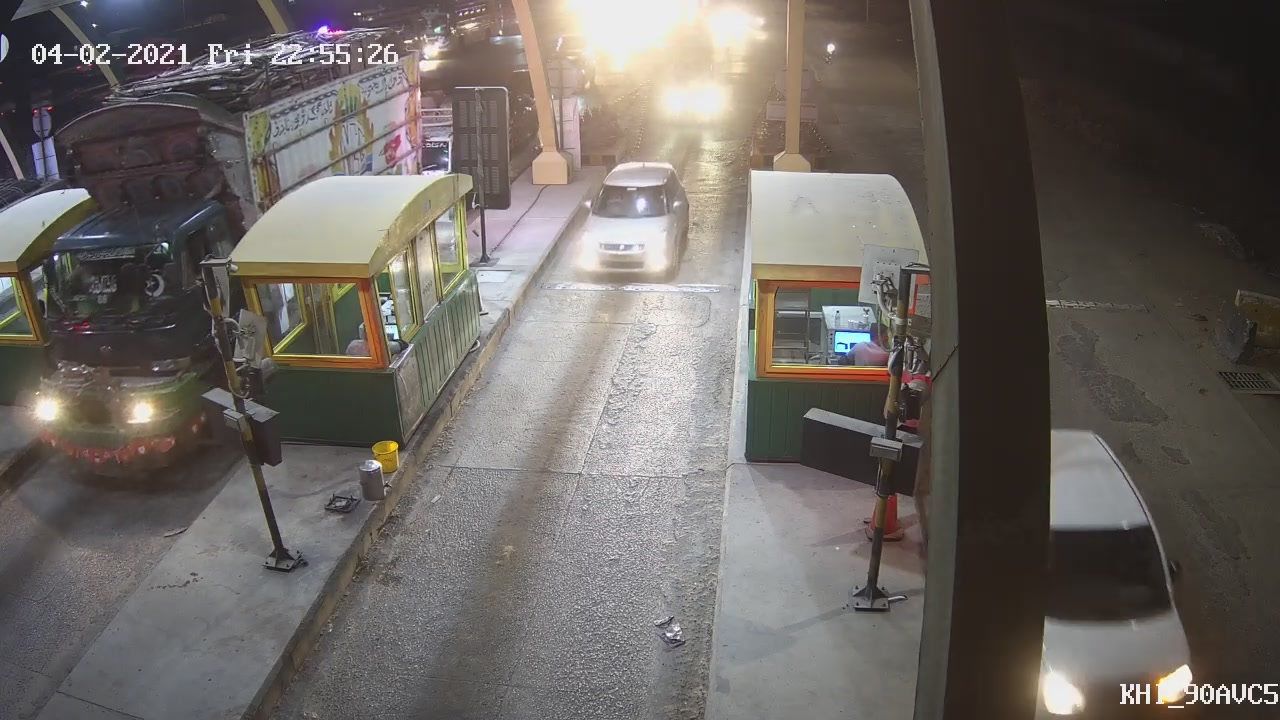F1: (567, 159, 703, 284)
